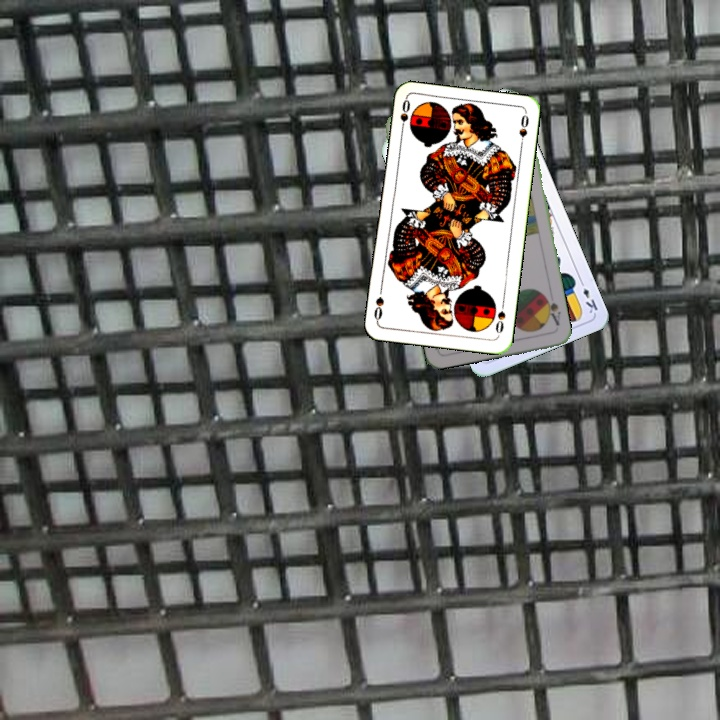EK: (576, 276, 600, 316)
SA: (540, 292, 563, 328)
SO: (396, 96, 413, 136), (492, 298, 508, 338)
